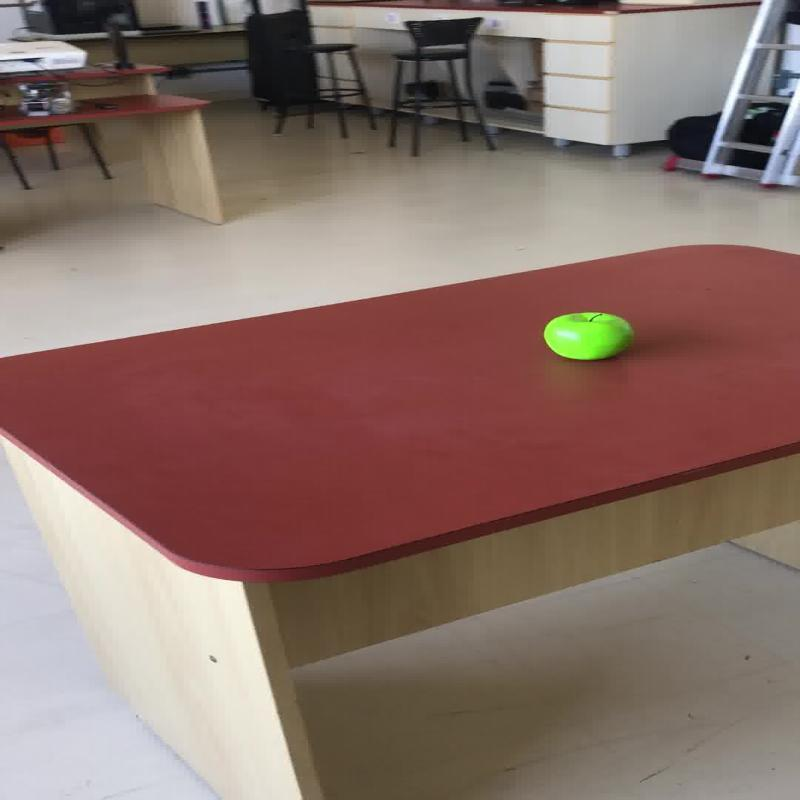apple: (540, 311, 633, 360)
